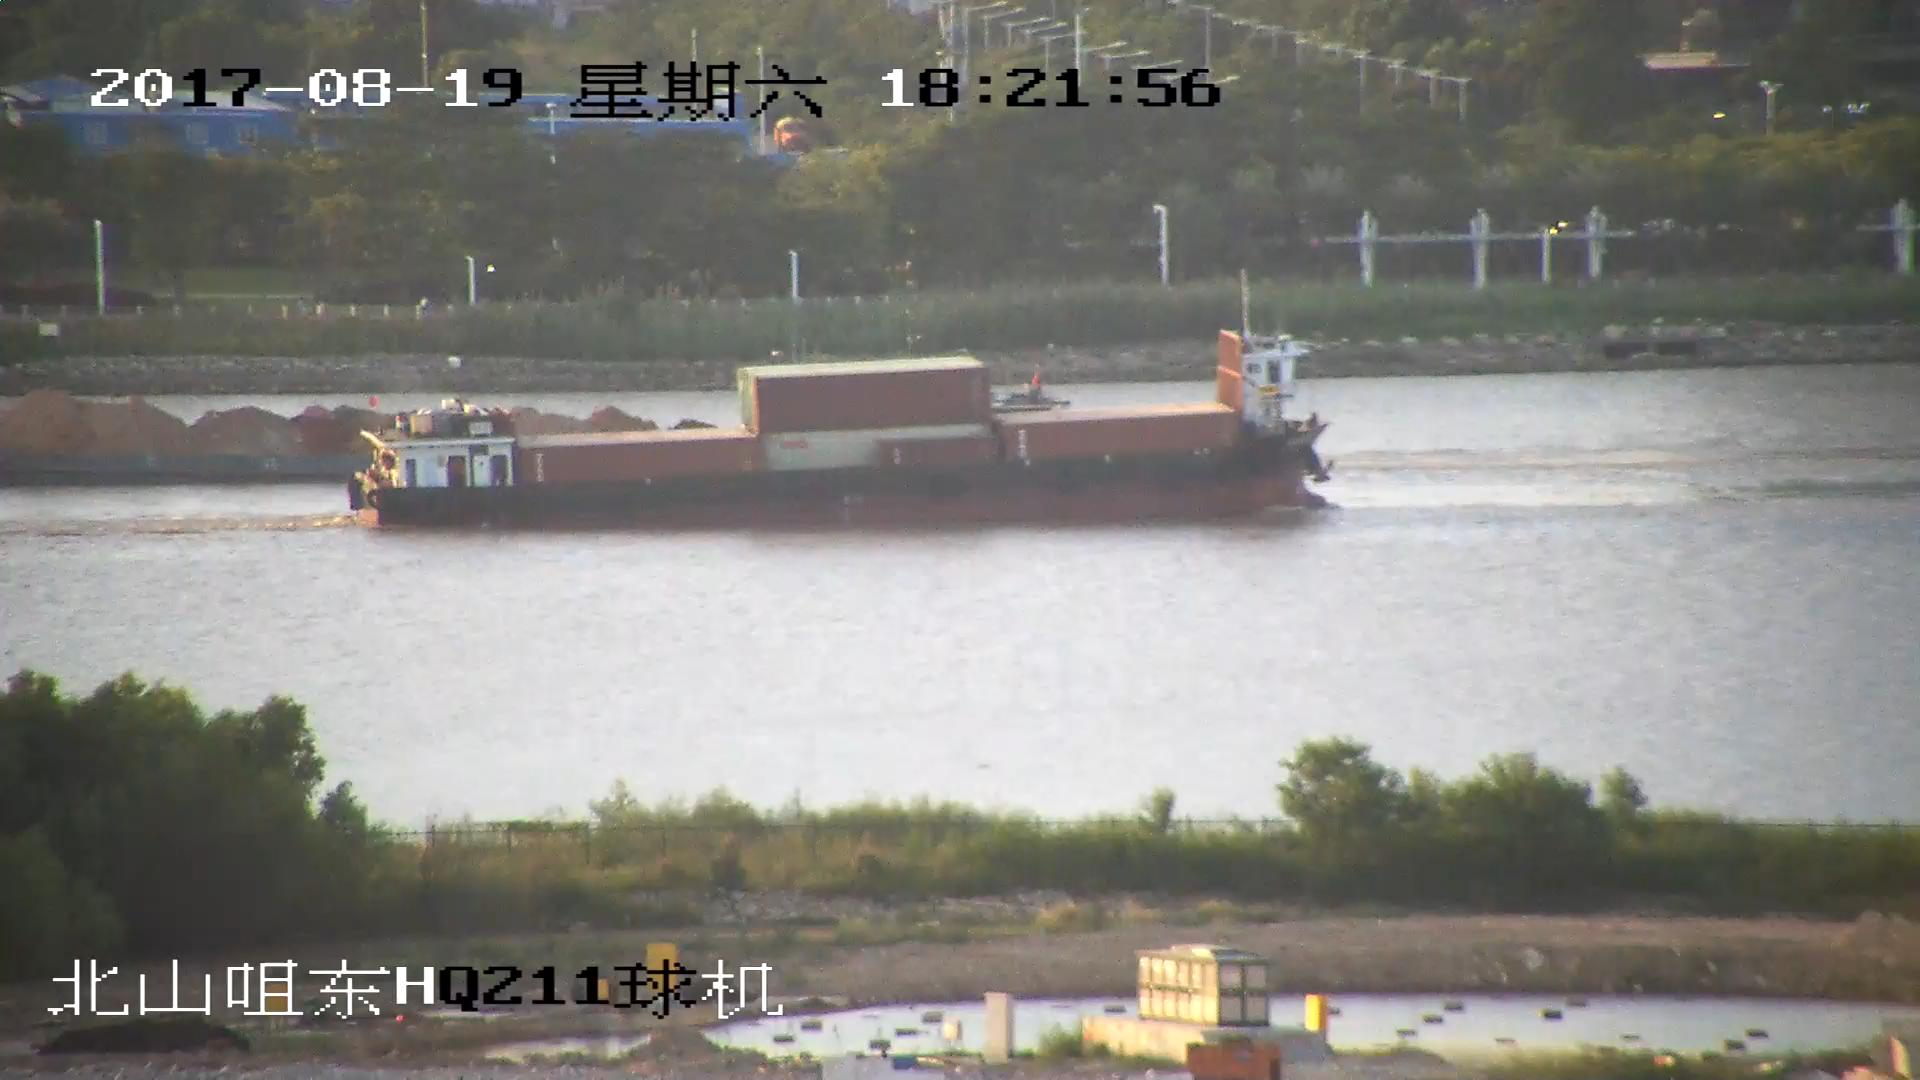container ship: (350, 331, 1337, 535)
ore carrier: (1, 387, 350, 490)
